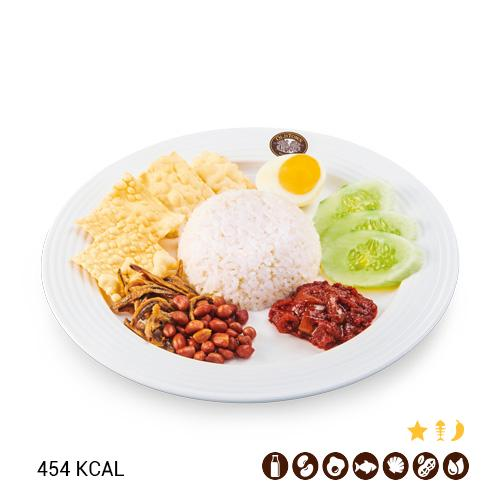Anchovies: (111, 260, 199, 352)
Boiled-Egg: (255, 154, 326, 208)
Cucumber: (312, 181, 425, 288)
Keropok: (70, 151, 257, 309)
Peanuts: (158, 297, 256, 364)
Rice: (179, 190, 322, 313)
Sambal: (269, 284, 378, 350)
